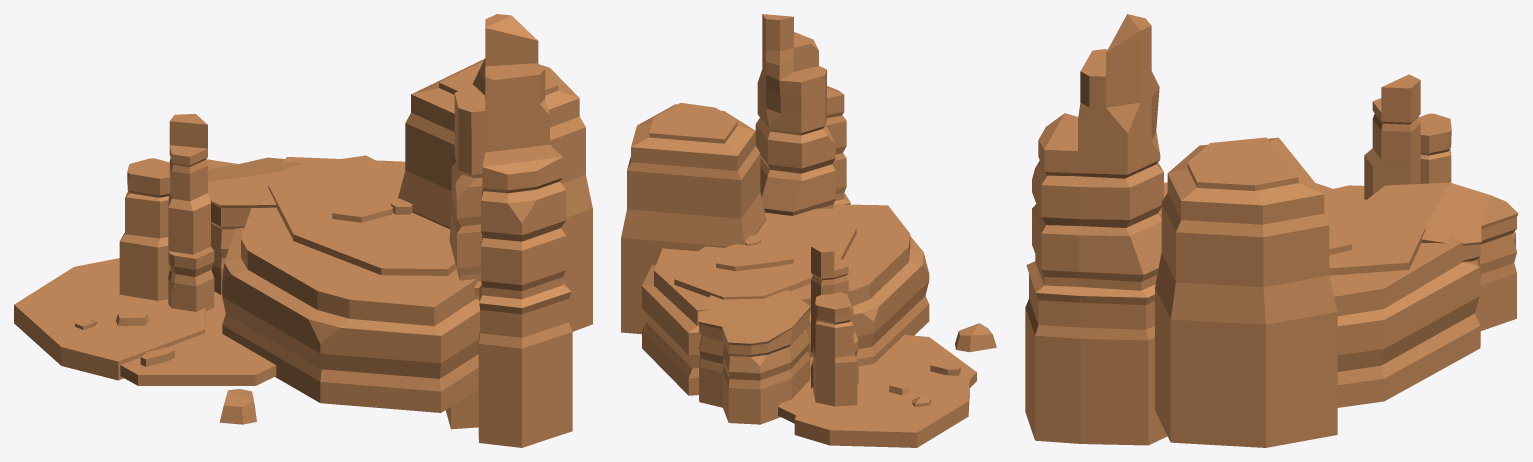
File: SandRocks3_LOD1.fbx
3 renders of one model, left to right at view 1: azimuth 30°, elevation 25°; view 2: azimuth 150°, elevation 25°; view 3: azimuth 270°, elevation 25°, orthographic. The views are drawn at different scales.
Visible parts, largest first — view 1: Plane.180; view 2: Plane.180; view 3: Plane.180.
Part boxes in pixels (x1,y1,x2,y2): Plane.180: [14, 14, 592, 447]; Plane.180: [621, 14, 996, 447]; Plane.180: [1025, 14, 1518, 447].
Size of the model in its own units: 185 by 147 by 163.
